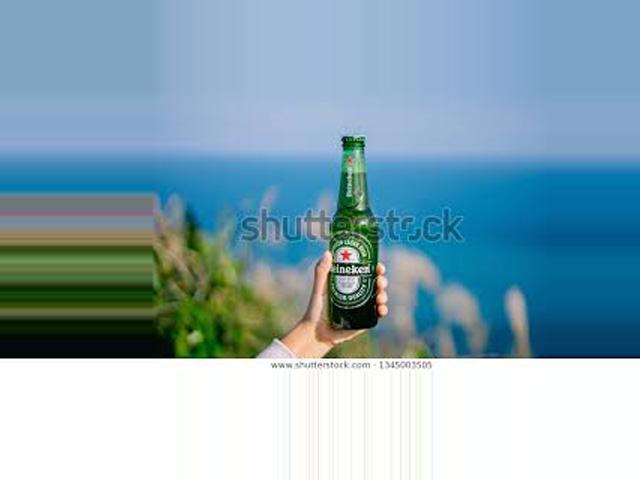beer: (328, 135, 377, 330)
